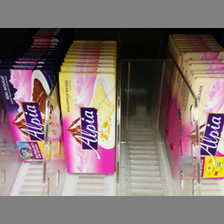chocolate: (58, 72, 116, 178), (1, 69, 65, 163), (181, 80, 224, 182)
